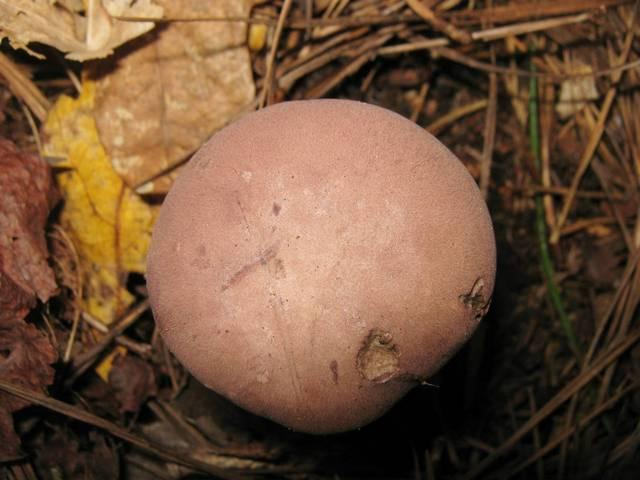poisonous_mushroom: (143, 96, 498, 436)
